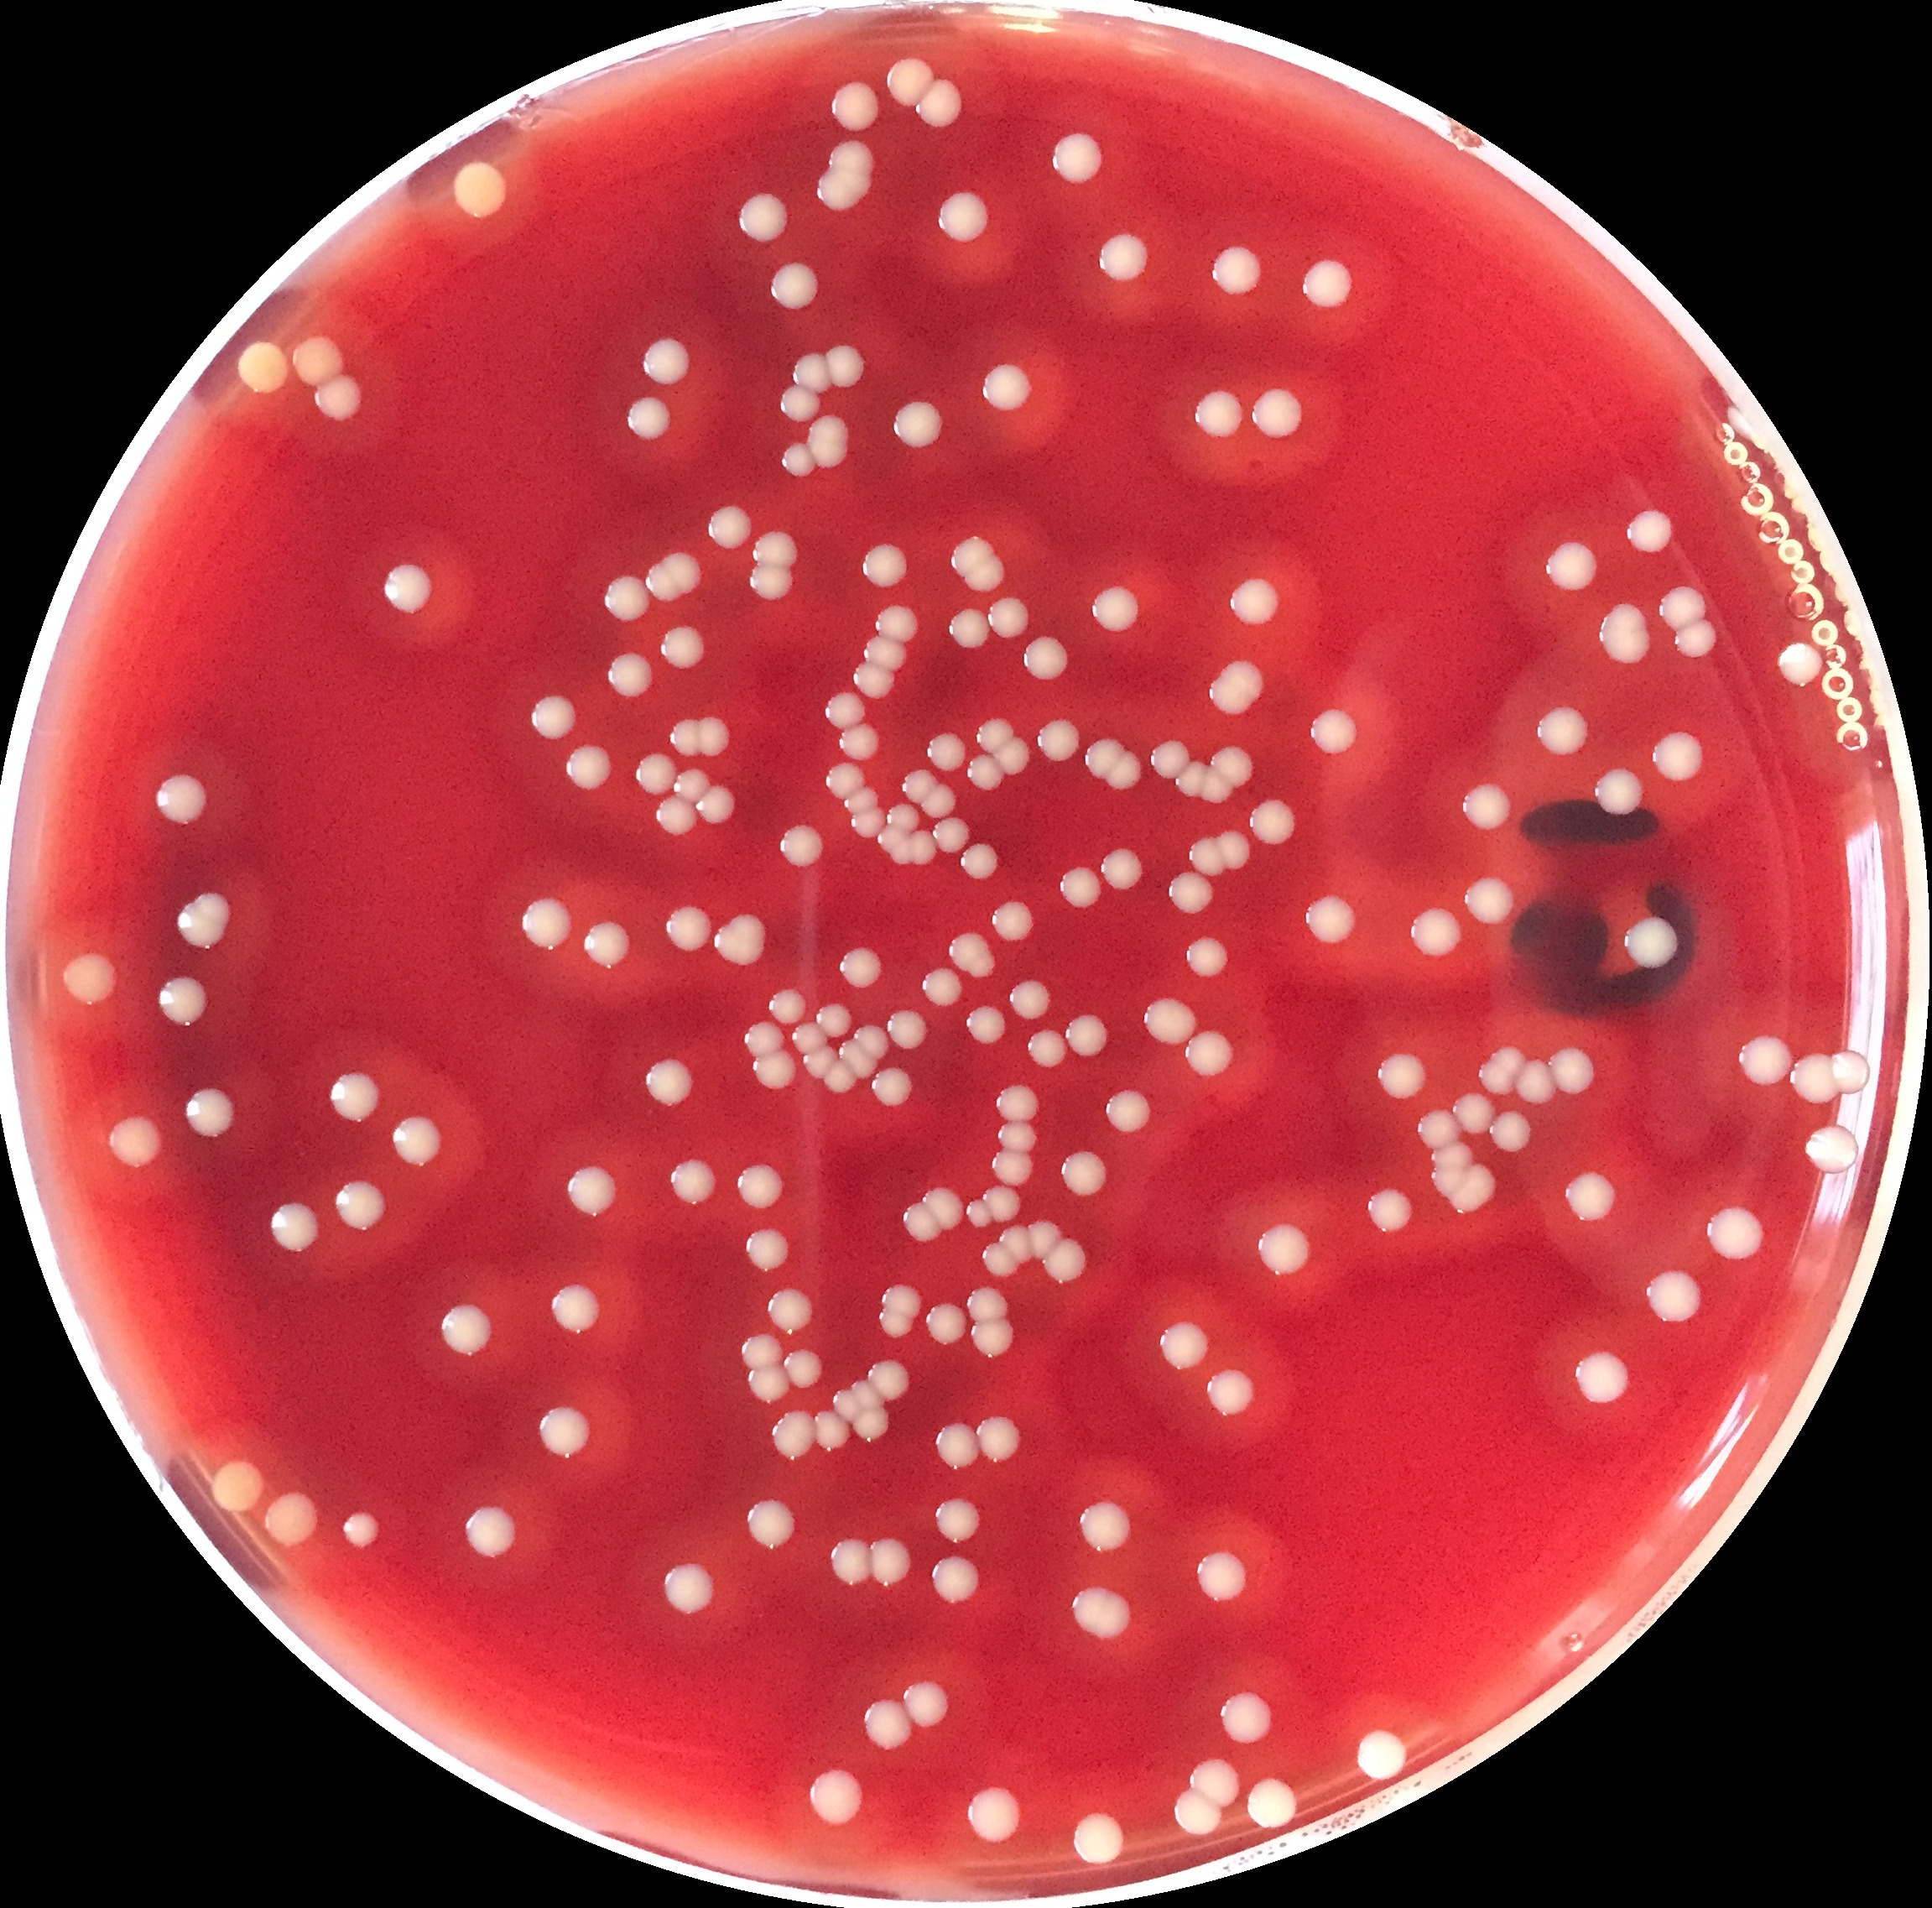sp21: (98, 1106, 175, 1178), (1064, 1581, 1139, 1651), (957, 1780, 1027, 1852), (528, 1400, 596, 1468), (1570, 1347, 1640, 1412), (1593, 599, 1656, 671), (657, 1553, 723, 1620), (1207, 657, 1272, 723), (802, 1768, 868, 1833), (1644, 1263, 1707, 1330), (262, 1489, 328, 1552), (459, 1497, 521, 1566), (1701, 1202, 1771, 1262), (543, 1279, 608, 1342), (59, 944, 124, 1006), (1357, 1181, 1424, 1242), (1252, 1216, 1315, 1279), (321, 1069, 384, 1132), (175, 893, 236, 957), (931, 187, 997, 246), (882, 400, 952, 456), (1541, 536, 1605, 596), (1212, 1684, 1277, 1744), (1149, 1317, 1216, 1375), (452, 157, 510, 224), (1625, 912, 1686, 973), (1190, 1546, 1251, 1607), (1530, 702, 1593, 762), (1088, 578, 1148, 641), (1349, 1723, 1411, 1782), (894, 1676, 957, 1735), (377, 557, 437, 620), (910, 72, 975, 129), (826, 77, 891, 135), (1141, 996, 1207, 1052), (1296, 895, 1364, 949), (1555, 1171, 1623, 1225), (1207, 241, 1266, 302), (559, 1162, 620, 1221), (522, 692, 583, 751), (1647, 727, 1710, 785), (515, 893, 573, 956), (155, 973, 211, 1038), (928, 1550, 987, 1609), (234, 341, 293, 400), (438, 1298, 498, 1358), (1455, 778, 1516, 835), (1226, 573, 1284, 634), (741, 1499, 802, 1557), (709, 910, 770, 968), (945, 928, 1003, 989), (332, 1174, 390, 1235), (1050, 128, 1107, 187), (1408, 900, 1466, 959), (154, 769, 213, 826), (1071, 1808, 1132, 1864), (732, 189, 795, 243), (178, 1083, 241, 1137), (1095, 231, 1160, 283), (641, 1055, 699, 1113), (1190, 379, 1245, 439), (1803, 1118, 1859, 1178), (1057, 1146, 1113, 1206), (666, 1151, 721, 1211), (978, 360, 1039, 414), (210, 1454, 264, 1515), (632, 334, 695, 386), (1593, 764, 1649, 821), (973, 1410, 1029, 1468), (863, 1531, 917, 1590), (625, 391, 680, 451), (1249, 386, 1305, 442), (1172, 1787, 1228, 1843), (879, 56, 936, 110), (767, 262, 825, 316), (1771, 636, 1829, 690), (557, 739, 615, 793), (266, 1200, 323, 1255), (1787, 1047, 1841, 1103), (603, 646, 657, 702), (1653, 578, 1710, 631), (1738, 1033, 1796, 1085), (1076, 1501, 1135, 1552), (811, 162, 872, 211), (1300, 255, 1354, 309), (1377, 1048, 1429, 1104), (1183, 1027, 1239, 1080), (742, 1223, 798, 1275), (774, 823, 830, 875), (390, 1110, 442, 1165), (580, 919, 638, 970), (1308, 706, 1363, 758), (1207, 1366, 1259, 1421), (1060, 1010, 1114, 1062), (833, 940, 886, 994), (1245, 798, 1300, 851), (859, 536, 912, 591), (313, 372, 367, 425), (1183, 1756, 1239, 1807), (1462, 874, 1520, 923), (1553, 1041, 1597, 1104), (933, 1419, 985, 1471), (702, 501, 755, 554), (734, 1162, 788, 1213), (1165, 867, 1219, 917), (1179, 933, 1235, 982), (886, 1005, 933, 1062), (1102, 1087, 1160, 1134), (1041, 1228, 1088, 1286), (1625, 503, 1677, 554), (767, 1412, 818, 1464), (1032, 716, 1085, 767), (943, 601, 996, 652), (982, 591, 1032, 643), (1018, 633, 1069, 685), (1509, 1055, 1558, 1110), (1251, 1773, 1300, 1828), (734, 1330, 788, 1379), (288, 335, 344, 383), (1450, 1167, 1501, 1218), (1097, 847, 1146, 900), (657, 624, 709, 673), (807, 414, 852, 470), (821, 341, 870, 391), (786, 348, 837, 397), (763, 1284, 814, 1333), (989, 893, 1038, 944), (866, 1698, 914, 1751), (931, 1494, 983, 1541), (828, 1538, 875, 1590), (749, 1045, 802, 1092), (963, 999, 1015, 1047), (660, 905, 714, 951), (638, 552, 683, 606), (744, 559, 798, 605), (1207, 741, 1256, 790), (1001, 977, 1052, 1024), (693, 785, 744, 832), (861, 629, 912, 676), (964, 1316, 1017, 1361), (961, 554, 1017, 596), (1055, 863, 1102, 912), (660, 547, 709, 594), (954, 837, 999, 888), (990, 1082, 1045, 1123), (898, 1200, 945, 1248), (650, 792, 697, 839), (1827, 1048, 1873, 1097), (1487, 1106, 1532, 1155), (978, 1179, 1024, 1228), (1102, 744, 1148, 793), (1672, 613, 1722, 657), (748, 526, 800, 568), (823, 138, 877, 178), (989, 1146, 1034, 1193), (1448, 1092, 1497, 1136), (928, 1298, 971, 1347), (963, 1284, 1013, 1326), (870, 601, 921, 643), (811, 1405, 849, 1459), (922, 1185, 966, 1232), (1022, 1024, 1069, 1068), (919, 964, 966, 1008), (1214, 826, 1258, 874), (604, 573, 648, 620), (742, 1361, 791, 1403), (866, 1064, 908, 1113), (1411, 1108, 1462, 1148), (779, 1344, 823, 1389), (739, 1015, 786, 1057), (975, 1237, 1022, 1279), (631, 748, 678, 790), (964, 748, 1006, 795), (837, 722, 884, 764), (924, 730, 973, 771), (873, 1307, 917, 1351), (997, 1228, 1041, 1272), (1085, 736, 1127, 781), (875, 1281, 926, 1317), (845, 1405, 891, 1445), (868, 1359, 914, 1400), (1184, 839, 1230, 879), (1146, 737, 1191, 778), (973, 715, 1018, 755), (835, 1036, 873, 1083), (823, 760, 870, 798), (693, 713, 732, 760), (1170, 760, 1212, 802), (790, 1017, 830, 1061), (949, 533, 989, 577), (994, 737, 1034, 779), (339, 1511, 381, 1552), (779, 439, 823, 477), (779, 381, 821, 419), (811, 999, 852, 1038), (919, 781, 961, 819), (825, 690, 866, 729), (842, 1373, 886, 1410), (1474, 1059, 1513, 1099), (769, 989, 809, 1027), (802, 1043, 840, 1083), (667, 764, 707, 802), (931, 814, 969, 854), (826, 1387, 868, 1424), (838, 783, 882, 818), (996, 1118, 1041, 1151), (1198, 765, 1235, 805), (1025, 1220, 1060, 1262), (851, 662, 893, 697), (669, 715, 702, 758), (851, 1022, 889, 1059), (900, 764, 936, 802), (845, 805, 889, 837), (1431, 1143, 1473, 1174), (1483, 1043, 1525, 1073), (961, 1197, 994, 1234), (884, 800, 921, 833), (908, 826, 938, 865), (1434, 1160, 1464, 1197), (887, 839, 922, 868), (825, 1055, 852, 1090), (879, 823, 903, 858)
